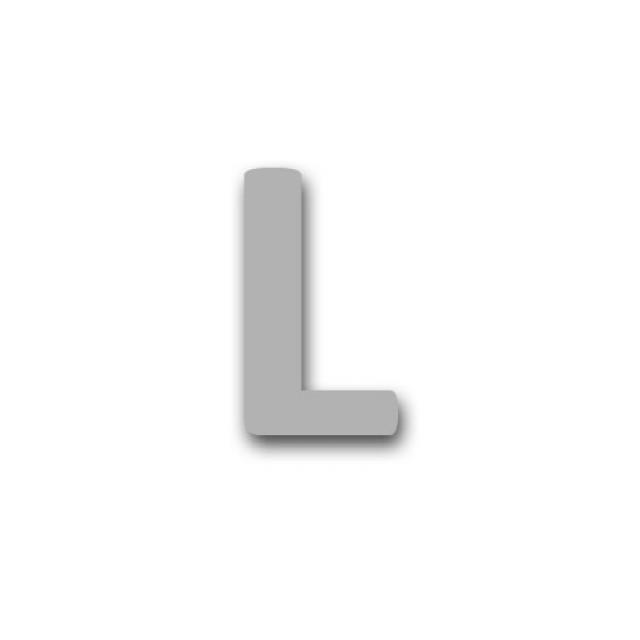L: (219, 136, 427, 451)
